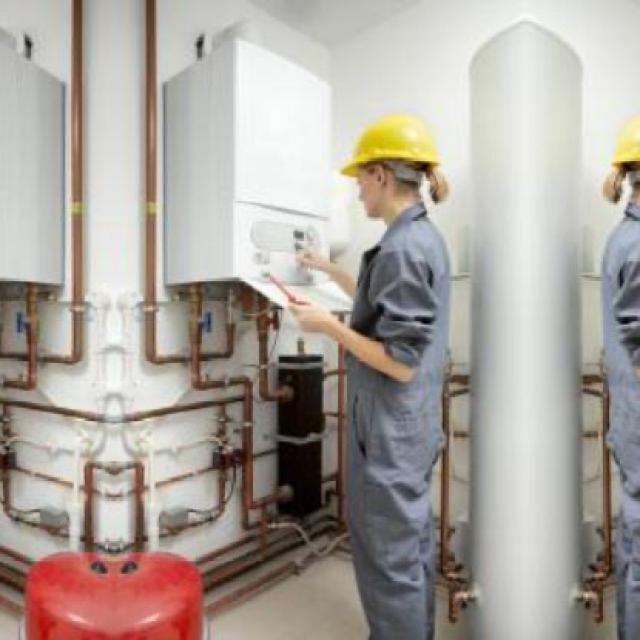con casco: (310, 112, 468, 265)
